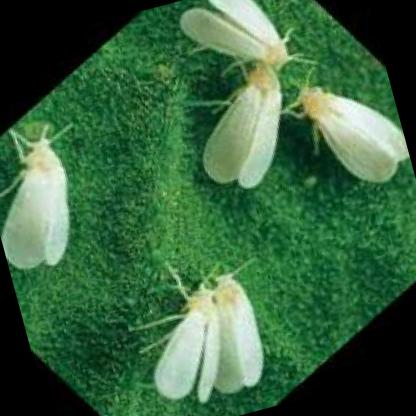whitefly: (296, 88, 410, 184), (203, 65, 281, 190), (3, 134, 69, 268)
